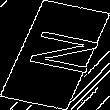N_E: (11, 28, 99, 82)
